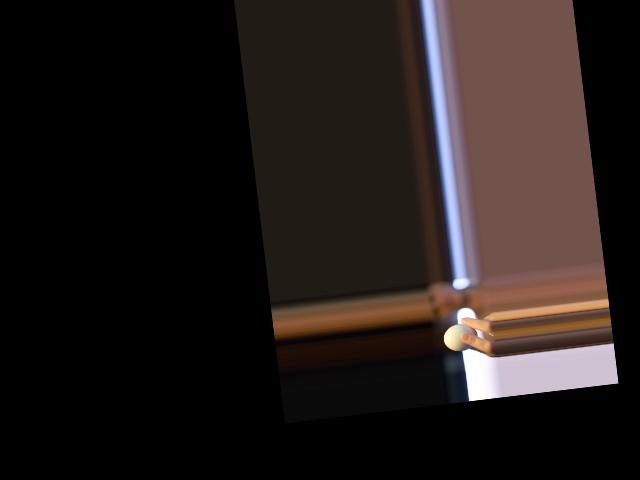egg: (442, 321, 479, 352)
